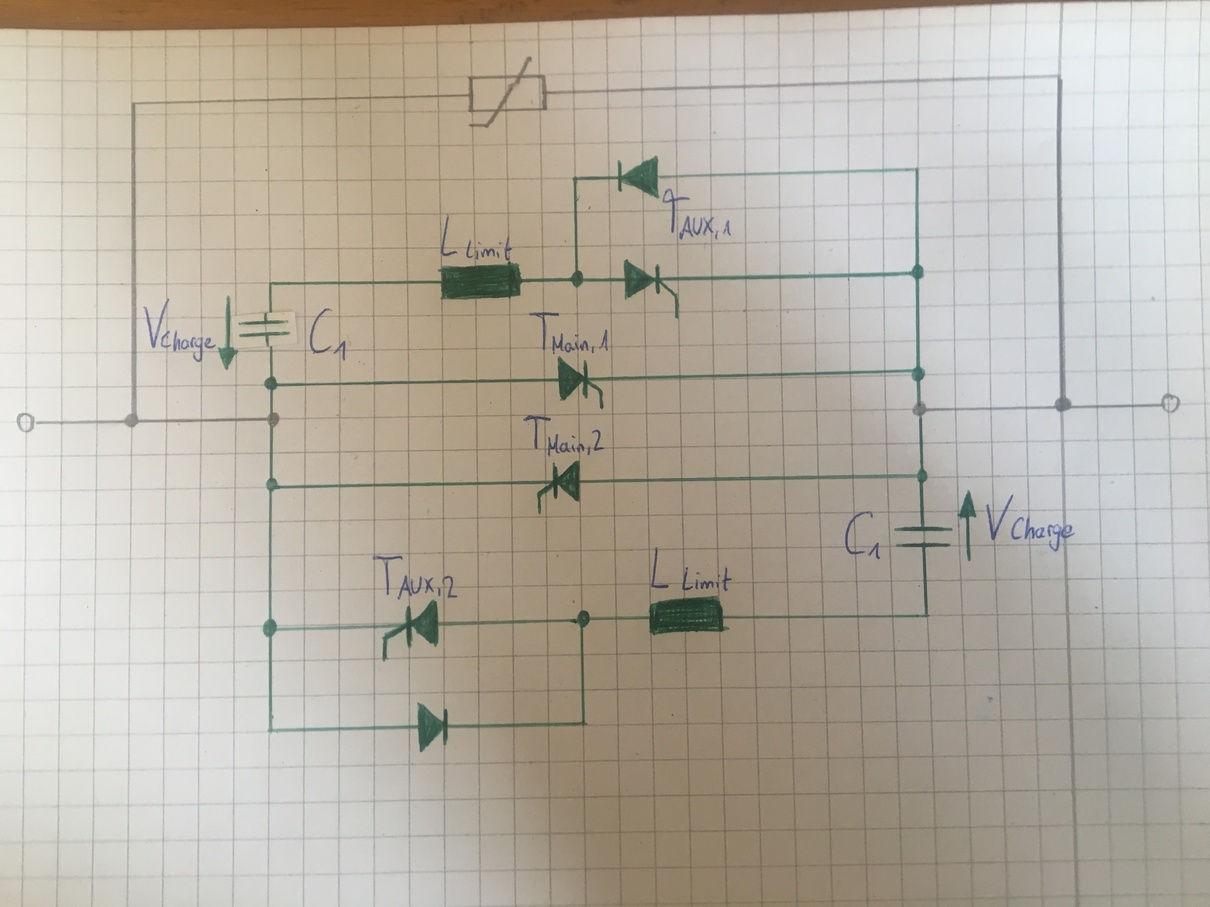capacitor.unpolarized: (237, 309, 294, 351), (891, 520, 957, 554)
diode: (616, 153, 662, 200), (414, 699, 451, 755)
inductor: (436, 260, 527, 305), (647, 593, 731, 637)
junction: (1051, 393, 1075, 415), (568, 267, 586, 290), (261, 617, 279, 639), (121, 411, 142, 429), (575, 608, 593, 629), (264, 410, 283, 429), (911, 399, 929, 419), (909, 364, 927, 384), (909, 262, 926, 282), (914, 466, 931, 485), (262, 375, 280, 392), (264, 476, 280, 494), (1052, 70, 1066, 85), (264, 277, 278, 291), (127, 98, 142, 110), (569, 173, 582, 186), (264, 724, 277, 736), (577, 717, 589, 729), (921, 609, 933, 621), (911, 163, 923, 175)
terminal: (13, 410, 40, 435), (1158, 390, 1183, 415)
text: (984, 492, 1076, 554), (142, 296, 216, 363), (370, 553, 460, 600), (648, 545, 734, 592), (661, 188, 734, 240), (521, 413, 606, 457), (438, 213, 514, 262), (527, 310, 610, 354), (305, 305, 350, 363), (843, 509, 882, 562)
thyristor: (380, 598, 443, 662), (621, 256, 683, 308), (556, 354, 606, 410), (535, 459, 582, 516)
varistor: (464, 55, 552, 131)
